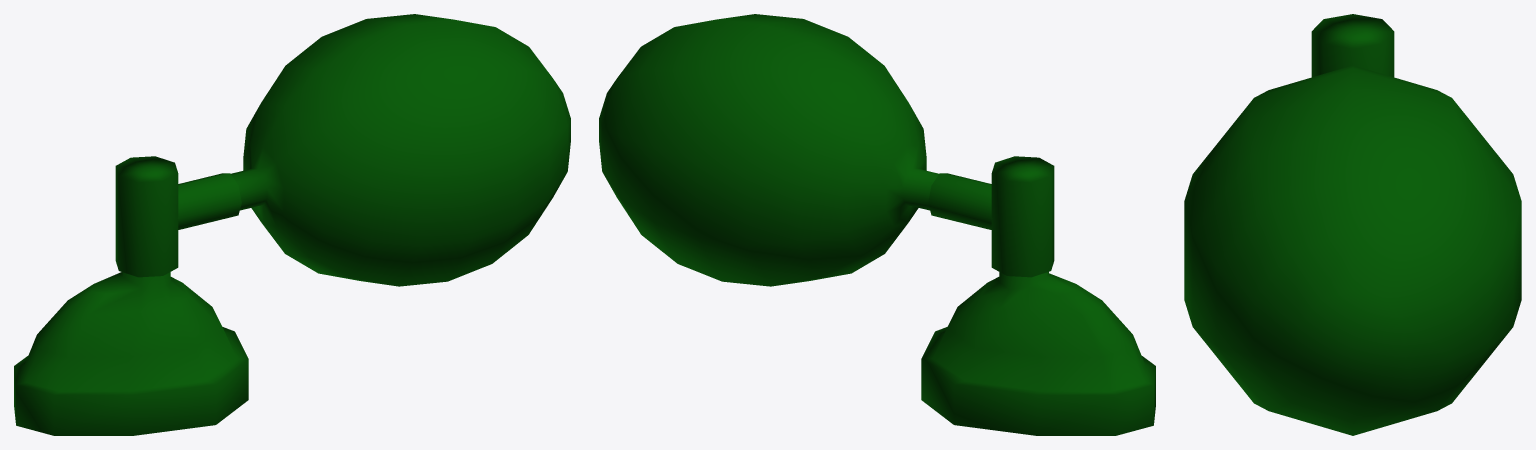
Rendered from cprFaceShiled.obj.
3 renders of one model, left to right at view 1: azimuth 30°, elevation 25°; view 2: azimuth 150°, elevation 25°; view 3: azimuth 270°, elevation 25°, orthographic. The views are drawn at different scales.
Parts seen in each view (by area): view 1: pPipe2; view 2: pPipe2; view 3: pPipe2.
Boxes of the visible parts, x1,y1,x2,y2 form: pPipe2: (14,14,570,435); pPipe2: (599,14,1155,435); pPipe2: (1184,14,1521,435).
Bounding box in the file's own units: 19.3 × 10.4 × 8.13.
